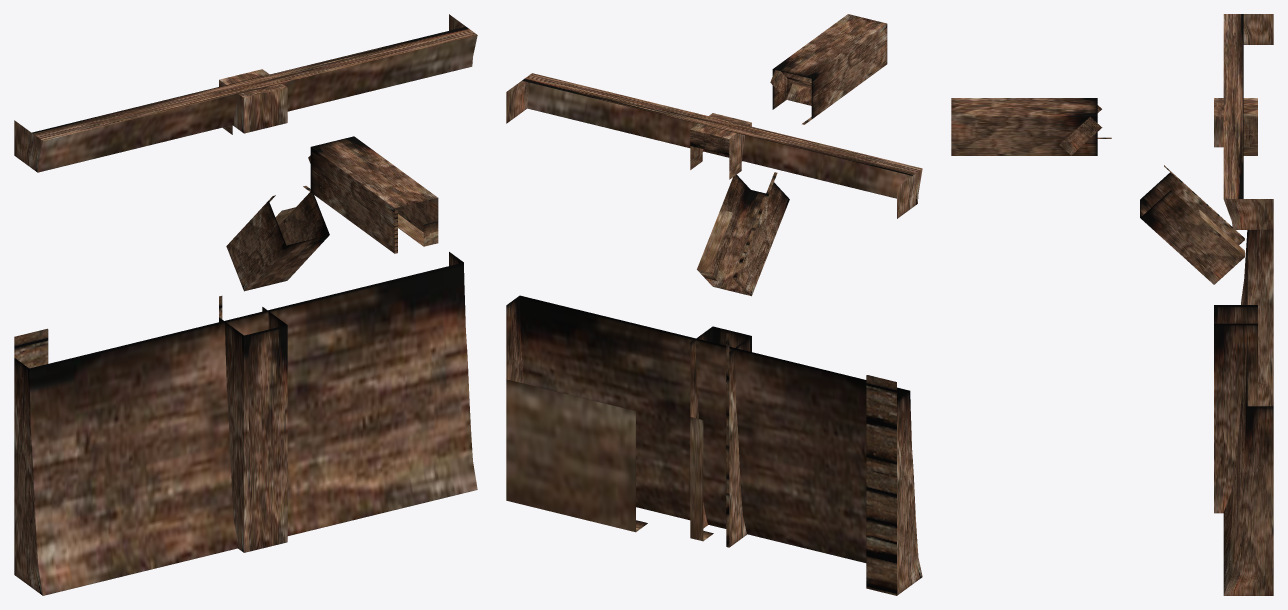
The model's file is Wall.obj.
3 renders of one model, left to right at view 1: azimuth 30°, elevation 25°; view 2: azimuth 150°, elevation 25°; view 3: azimuth 270°, elevation 25°, orthographic. The views are drawn at different scales.
Parts seen in each view (by area): view 1: polySurface16; view 2: polySurface16; view 3: polySurface16.
Part boxes in pixels (<box>): polySurface16: <box>14,14,477,595</box>; polySurface16: <box>506,14,922,595</box>; polySurface16: <box>951,14,1273,595</box>.
Size of the model in its own units: 10 by 10.02 by 7.37.
